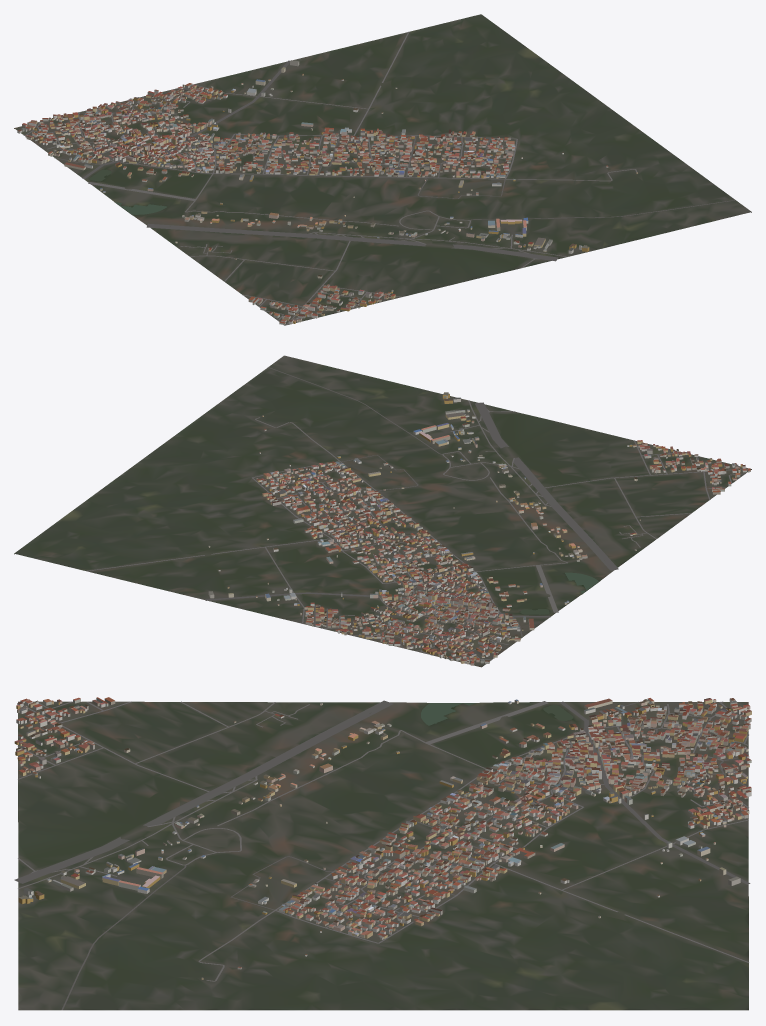
The picture shows the model from 3 angles, top to bottom: view 1: azimuth 30°, elevation 25°; view 2: azimuth 150°, elevation 25°; view 3: azimuth 270°, elevation 25°; orthographic projection. The views are drawn at different scales.
Parts seen in each view (by area): view 1: ground, buildings, roads; view 2: ground, buildings, roads; view 3: ground, buildings, roads, water.
Part boxes in pixels (<box>): ground: <box>14,14,751,325</box>; buildings: <box>17,60,637,324</box>; roads: <box>23,31,735,325</box>; ground: <box>14,355,751,667</box>; buildings: <box>208,392,750,665</box>; roads: <box>86,367,744,661</box>; ground: <box>18,701,748,1010</box>; buildings: <box>14,697,751,979</box>; roads: <box>14,700,750,1010</box>; water: <box>421,703,573,725</box>.
Size of the model in its own units: 1407 by 22.84 by 1416.
